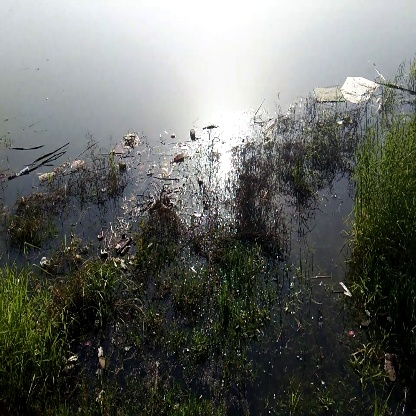plastic-bag: (338, 69, 389, 109)
